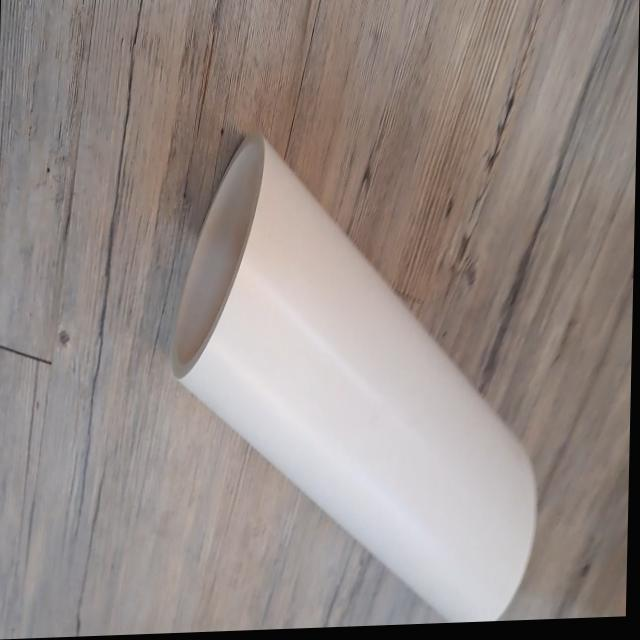CORAL: (127, 127, 562, 635)
